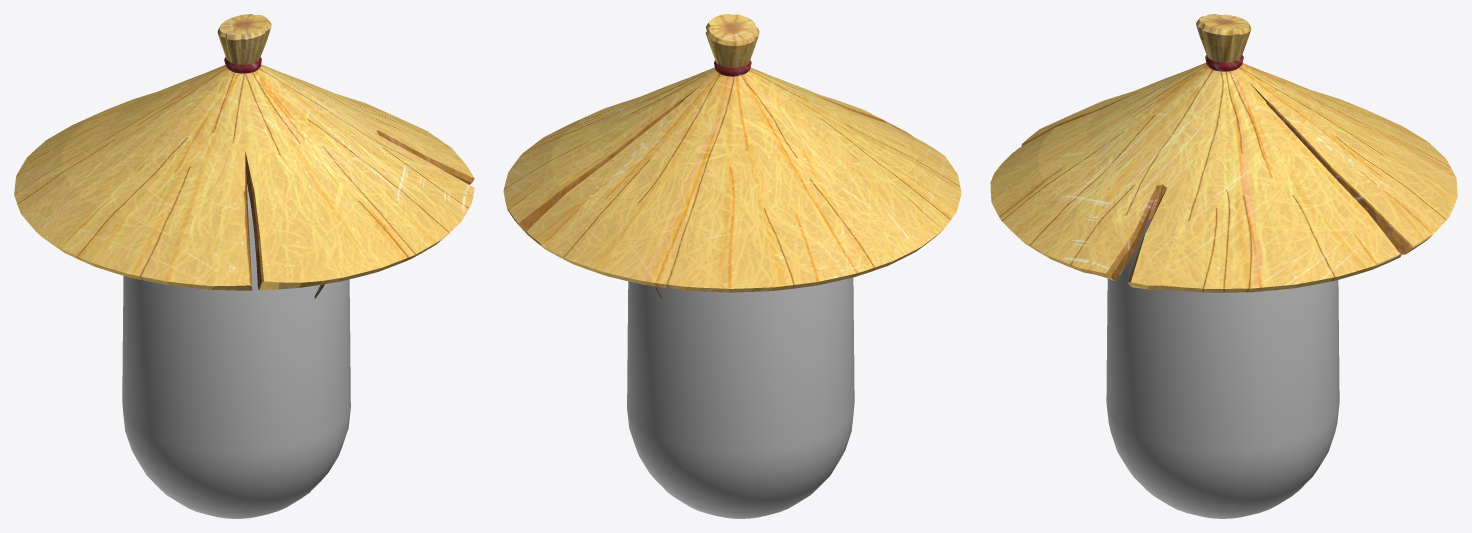
The model's file is Player.obj.
3 views of the same model, side by side, from view 1: azimuth 30°, elevation 25°; view 2: azimuth 150°, elevation 25°; view 3: azimuth 270°, elevation 25° (orthographic). The views are drawn at different scales.
Visible parts, largest first — view 1: Hat_Cylinder, Sphere; view 2: Hat_Cylinder, Sphere; view 3: Hat_Cylinder, Sphere.
Part boxes in pixels (bbox=[...]): Hat_Cylinder: bbox=[14, 14, 474, 298]; Sphere: bbox=[122, 184, 350, 518]; Hat_Cylinder: bbox=[503, 14, 961, 297]; Sphere: bbox=[627, 277, 854, 518]; Hat_Cylinder: bbox=[990, 14, 1457, 292]; Sphere: bbox=[1106, 218, 1339, 518].
Size of the model in its own units: 4.01 by 4.67 by 4.01.
